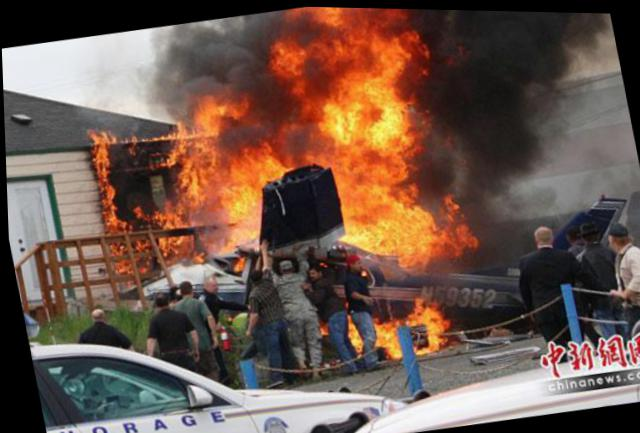fire: (309, 57, 423, 165), (323, 139, 417, 252), (283, 5, 409, 45), (210, 154, 258, 243), (302, 22, 389, 70), (363, 24, 422, 91), (171, 133, 224, 206), (388, 199, 440, 267), (86, 130, 119, 230), (434, 215, 487, 260), (237, 137, 283, 180), (265, 31, 307, 76), (184, 90, 223, 136), (154, 228, 195, 263), (214, 82, 249, 119), (368, 313, 396, 359), (148, 196, 188, 228), (400, 295, 431, 321), (339, 313, 359, 350), (422, 314, 443, 345), (137, 128, 176, 141), (172, 117, 189, 137), (158, 146, 175, 165), (412, 342, 429, 353), (126, 203, 138, 214)
